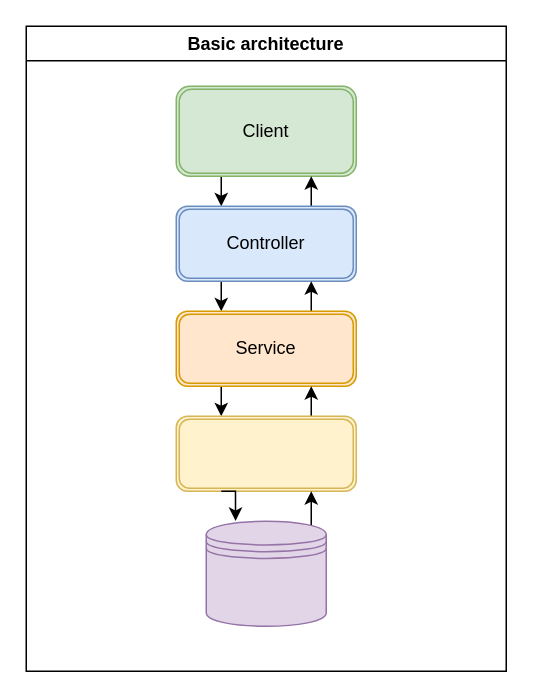
Some shapes in this 533 by 698 pixel diagram are drawn without their labels. Each missing label, with the centre of its shape:
PostgreSQL: (265,573)
Repository: (265,453)
